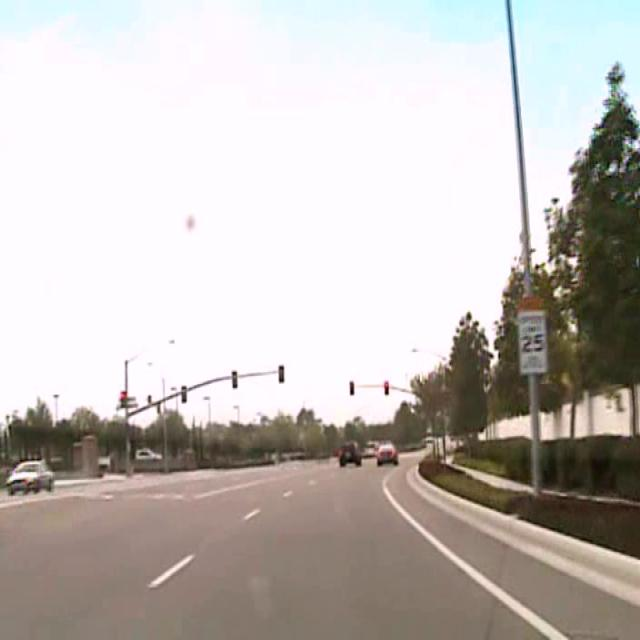speedLimit25: (516, 294, 548, 374)
